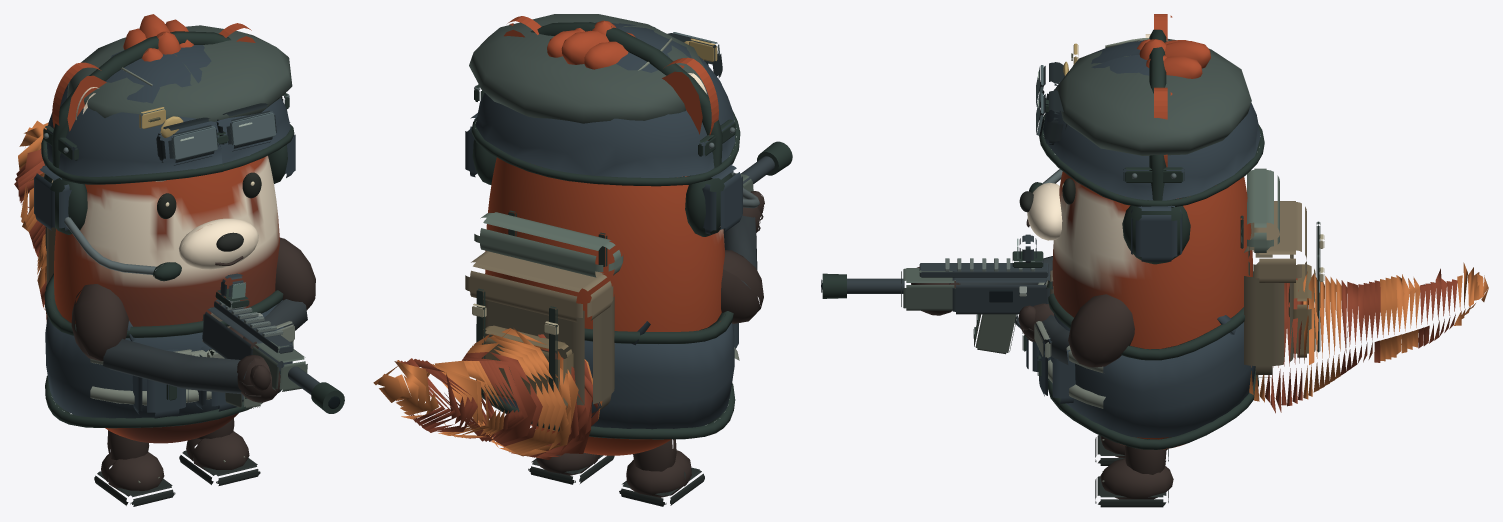
Rendered from redpanda.glb.
3 renders of one model, left to right at view 1: azimuth 30°, elevation 25°; view 2: azimuth 150°, elevation 25°; view 3: azimuth 270°, elevation 25°, orthographic. The views are drawn at different scales.
Parts seen in each view (by area): view 1: redpanda_torso_mesh, redpanda_helmet_mesh, redpanda_weapon_mesh, redpanda_vest_mesh, redpanda_beret_mesh, redpanda_headset_mesh, redpanda_goggles_mesh, redpanda_leftFoot_mesh, redpanda_leftArm_mesh, redpanda_snout_mesh, redpanda_rightFoot_mesh, redpanda_tail_mesh (+8 smaller); view 2: redpanda_torso_mesh, redpanda_pack_mesh, redpanda_helmet_mesh, redpanda_tail_mesh, redpanda_vest_mesh, redpanda_beret_mesh, redpanda_headset_mesh, redpanda_leftFoot_mesh, redpanda_weapon_mesh, redpanda_leftArm_mesh, redpanda_crestSwept_mesh, redpanda_leftEar_mesh (+2 smaller); view 3: redpanda_torso_mesh, redpanda_vest_mesh, redpanda_beret_mesh, redpanda_weapon_mesh, redpanda_helmet_mesh, redpanda_tail_mesh, redpanda_pack_mesh, redpanda_headset_mesh, redpanda_rightFoot_mesh, redpanda_rightArm_mesh, redpanda_snout_mesh, redpanda_goggles_mesh (+2 smaller).
Boxes of the visible parts, bbox=[...] form: redpanda_torso_mesh: bbox=[54, 155, 279, 443]; redpanda_helmet_mesh: bbox=[41, 45, 294, 184]; redpanda_weapon_mesh: bbox=[103, 273, 344, 413]; redpanda_vest_mesh: bbox=[44, 273, 294, 428]; redpanda_beret_mesh: bbox=[67, 25, 292, 137]; redpanda_headset_mesh: bbox=[34, 31, 295, 281]; redpanda_goggles_mesh: bbox=[156, 103, 276, 165]; redpanda_leftFoot_mesh: bbox=[94, 430, 175, 506]; redpanda_leftArm_mesh: bbox=[71, 284, 128, 361]; redpanda_snout_mesh: bbox=[179, 218, 258, 269]; redpanda_rightFoot_mesh: bbox=[179, 418, 260, 485]; redpanda_tail_mesh: bbox=[14, 120, 48, 321]; redpanda_torso_mesh: bbox=[485, 157, 724, 455]; redpanda_pack_mesh: bbox=[465, 210, 623, 410]; redpanda_helmet_mesh: bbox=[471, 22, 740, 186]; redpanda_tail_mesh: bbox=[373, 328, 602, 459]; redpanda_vest_mesh: bbox=[476, 273, 738, 439]; redpanda_beret_mesh: bbox=[469, 14, 705, 123]; redpanda_headset_mesh: bbox=[465, 22, 760, 236]; redpanda_leftFoot_mesh: bbox=[619, 439, 704, 506]; redpanda_weapon_mesh: bbox=[723, 141, 792, 288]; redpanda_leftArm_mesh: bbox=[721, 250, 763, 323]; redpanda_crestSwept_mesh: bbox=[547, 30, 628, 69]; redpanda_leftEar_mesh: bbox=[662, 57, 718, 140]; redpanda_torso_mesh: bbox=[1052, 171, 1252, 449]; redpanda_vest_mesh: bbox=[1022, 271, 1258, 449]; redpanda_beret_mesh: bbox=[1056, 39, 1251, 155]; redpanda_weapon_mesh: bbox=[821, 234, 1069, 364]; redpanda_helmet_mesh: bbox=[1039, 38, 1264, 207]; redpanda_tail_mesh: bbox=[1249, 262, 1488, 413]; redpanda_pack_mesh: bbox=[1240, 168, 1324, 377]; redpanda_headset_mesh: bbox=[1029, 29, 1190, 264]; redpanda_rightFoot_mesh: bbox=[1095, 446, 1173, 507]; redpanda_rightArm_mesh: bbox=[1068, 294, 1134, 367]; redpanda_snout_mesh: bbox=[1019, 182, 1062, 240]; redpanda_goggles_mesh: bbox=[1036, 62, 1067, 144].
Bounding box in the file's own units: 1.15 × 1.98 × 2.73.
